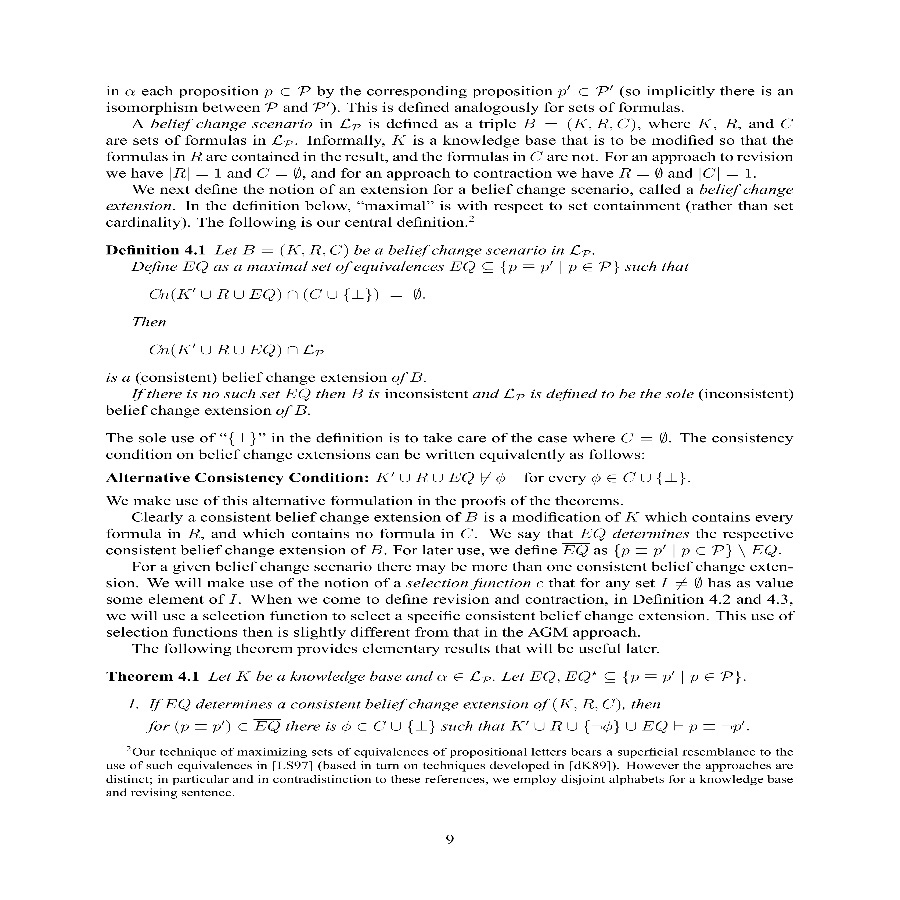eq: (147, 716, 746, 736), (147, 280, 422, 308), (146, 340, 330, 361)
